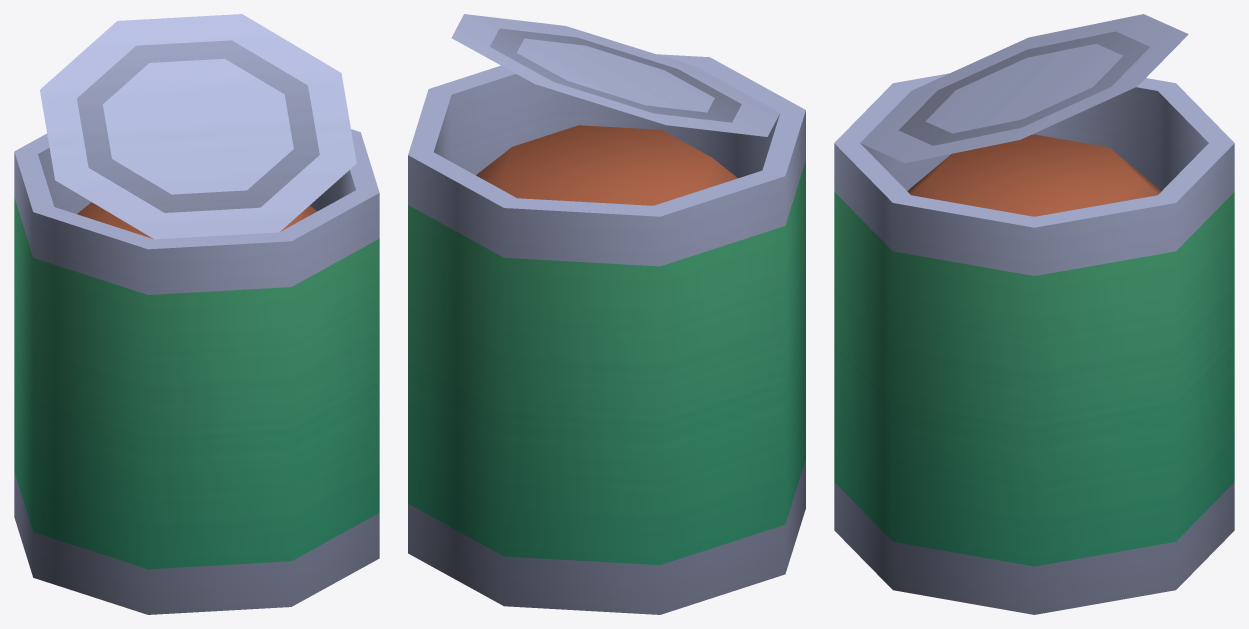
File: can-open.obj
The picture shows the model from 3 angles, left to right: view 1: azimuth 30°, elevation 25°; view 2: azimuth 150°, elevation 25°; view 3: azimuth 270°, elevation 25°; orthographic projection. The views are drawn at different scales.
Visible parts, largest first — view 1: can-open; view 2: can-open; view 3: can-open.
Boxes of the visible parts, x1,y1,x2,y2 form: can-open: [14, 14, 379, 614]; can-open: [408, 14, 805, 614]; can-open: [834, 14, 1234, 614].
Size of the model in its own units: 0.3 by 0.4071 by 0.3.
1 material, 1 textured.
